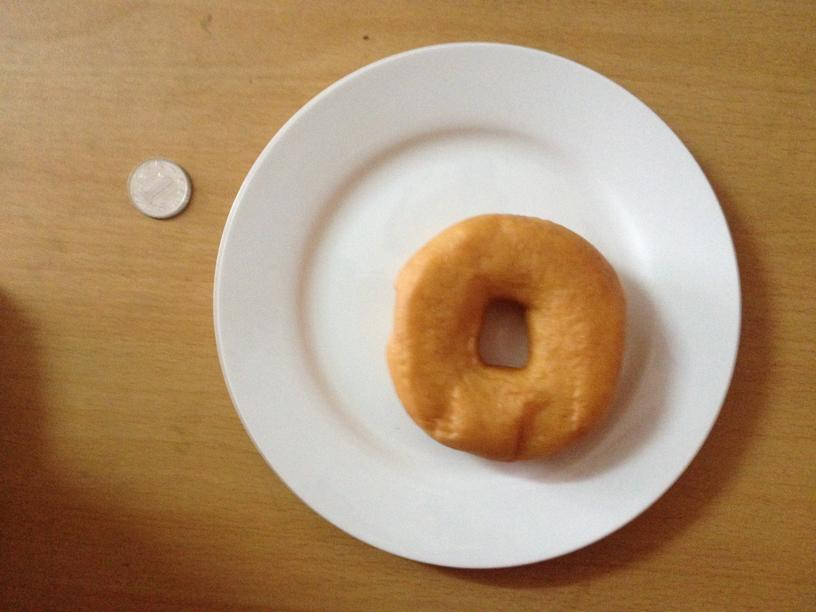coin: (128, 159, 191, 219)
doughnut: (387, 209, 623, 457)
